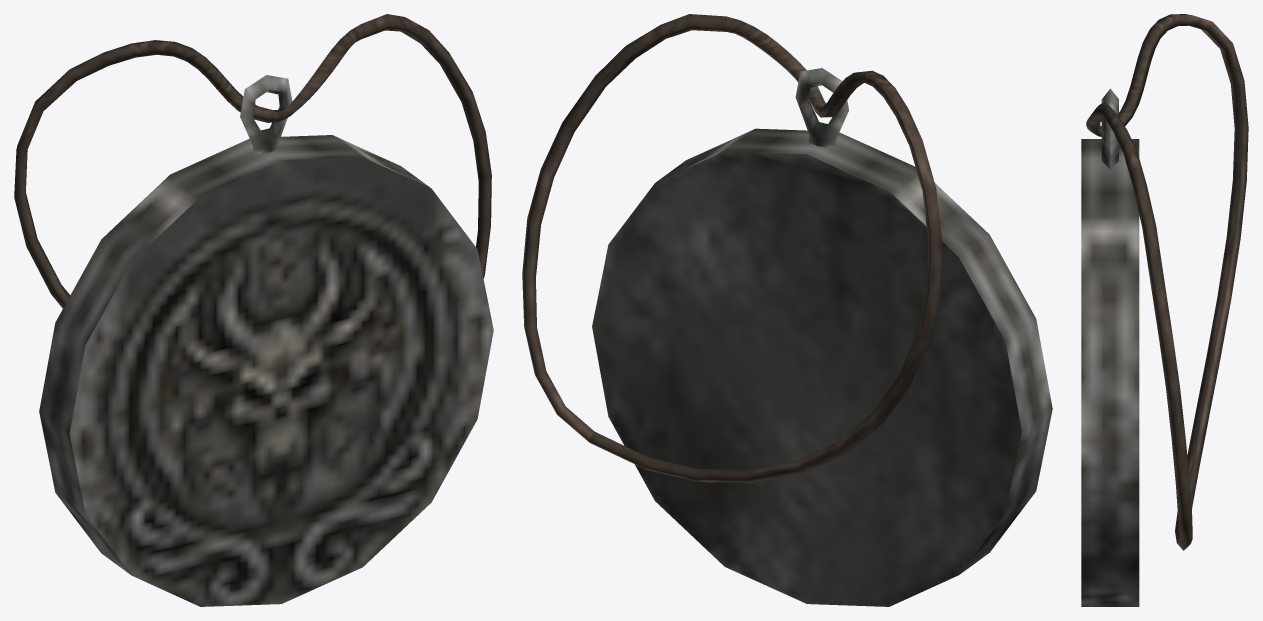
Rendered from amulet.fbx.
The picture shows the model from 3 angles, left to right: view 1: azimuth 30°, elevation 25°; view 2: azimuth 150°, elevation 25°; view 3: azimuth 270°, elevation 25°; orthographic projection. The views are drawn at different scales.
Parts seen in each view (by area): view 1: Amulet; view 2: Amulet; view 3: Amulet.
Boxes of the visible parts, x1,y1,x2,y2 form: Amulet: (14,14,493,606); Amulet: (522,14,1052,606); Amulet: (1081,14,1248,606).
Size of the model in its own units: 0.217 by 0.2418 by 0.0696.
